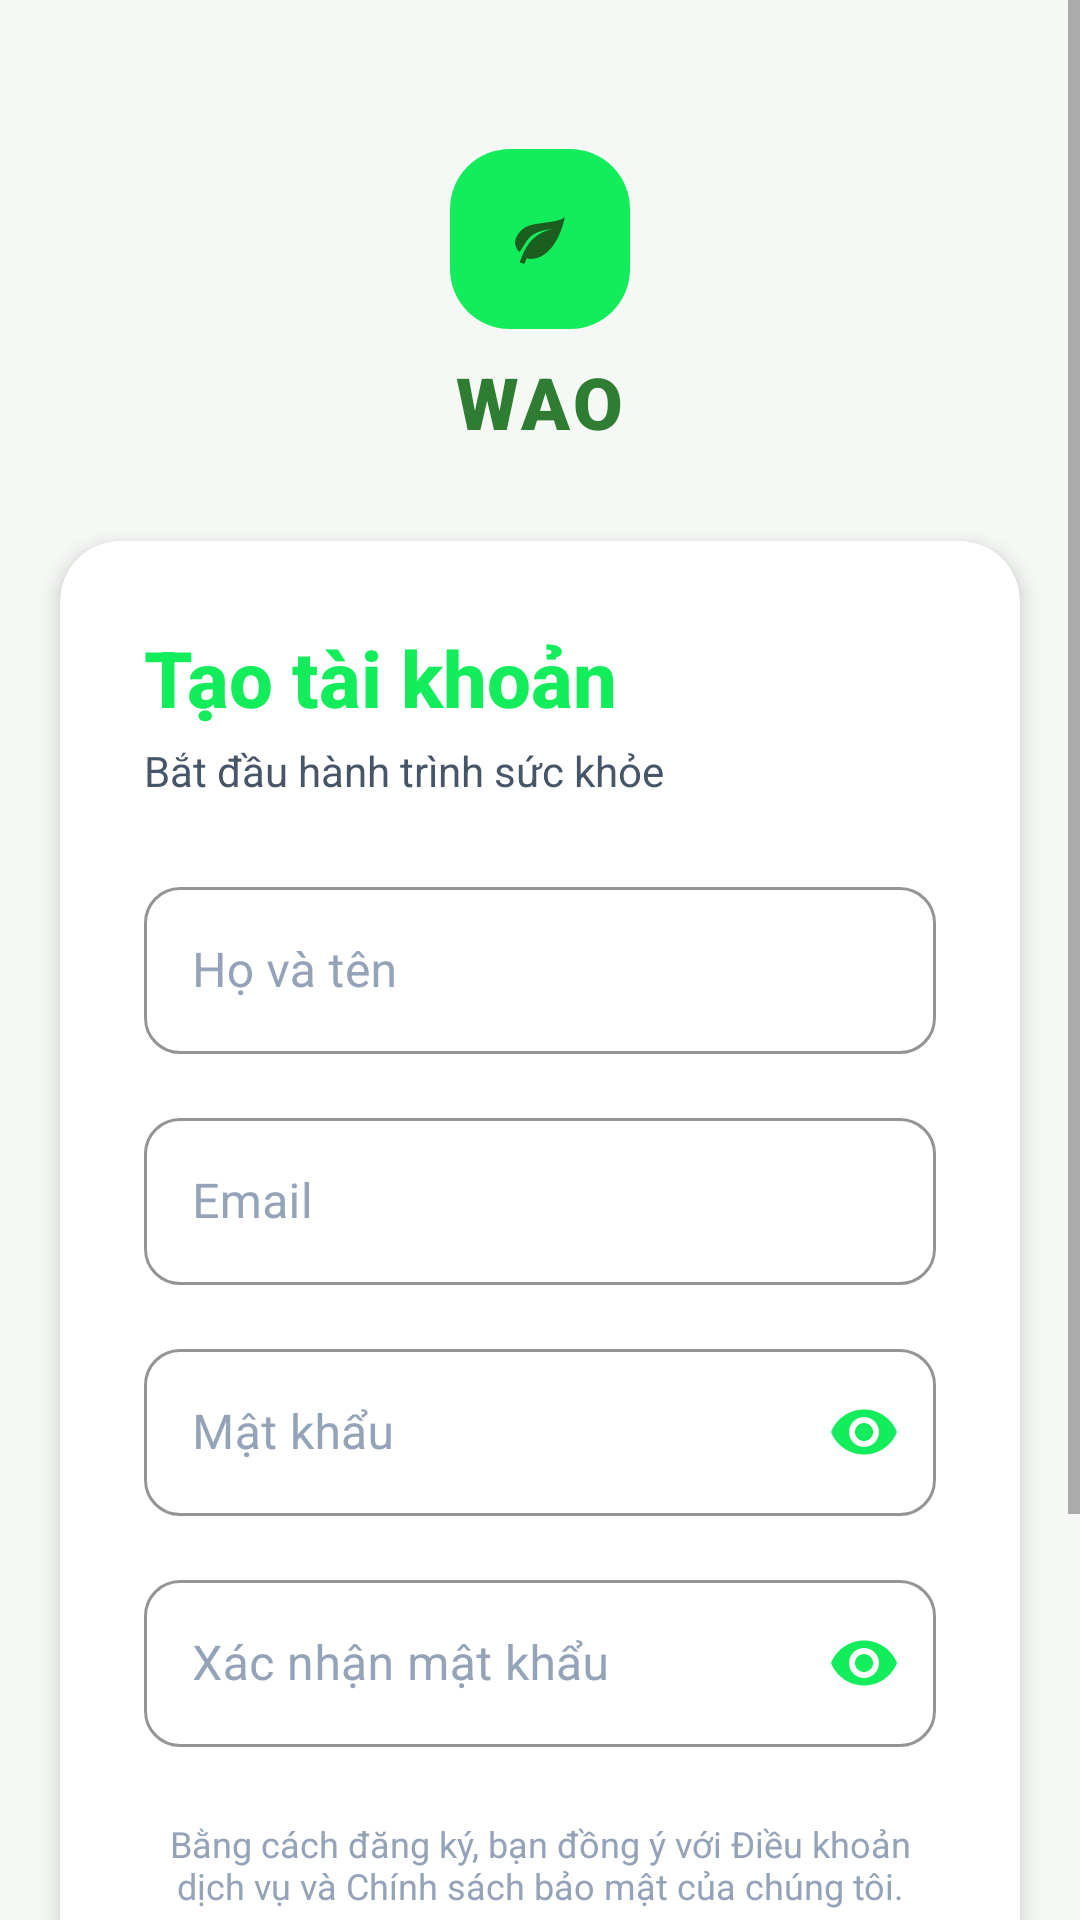

Point at icon controls on the screen. Image size 1080px×1920px, points as (x,y).
wao leaf: (540,239)
